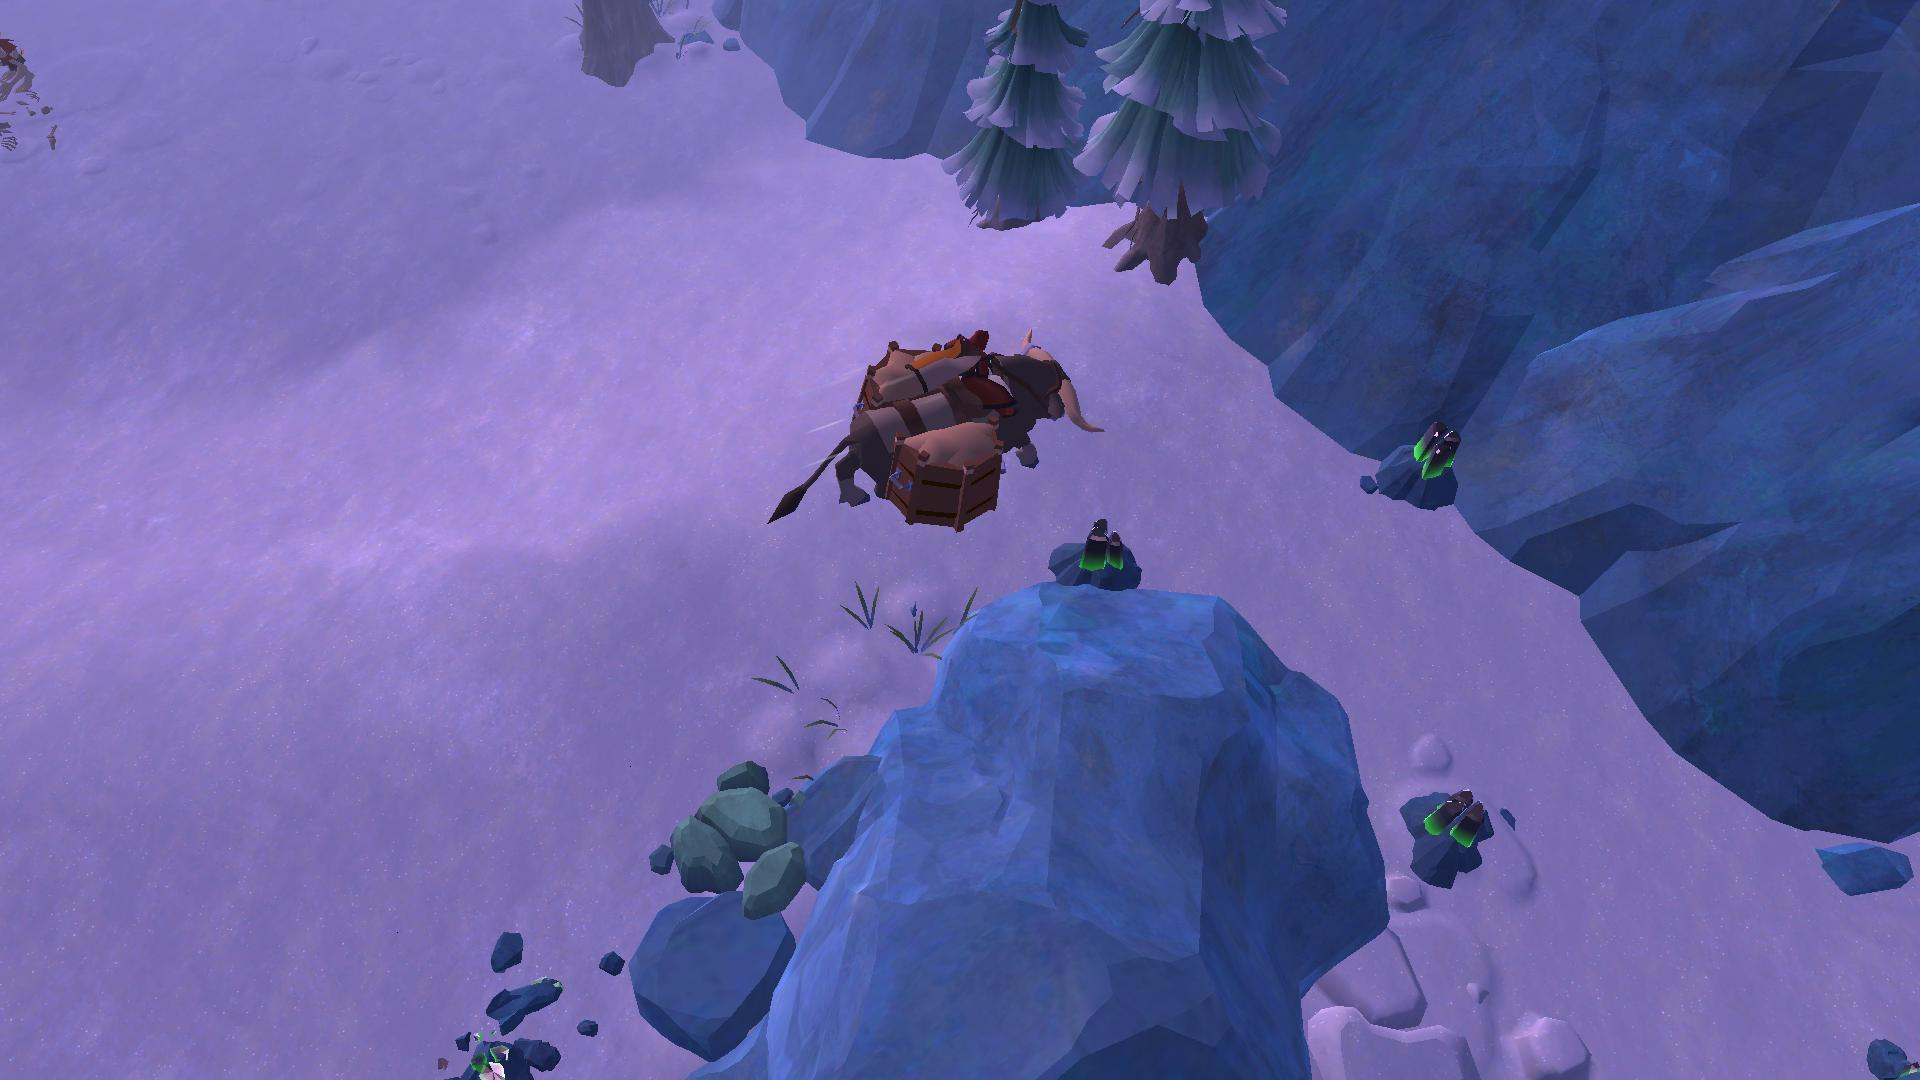enemy_factionUndead: (0, 29, 41, 109)
ore_t3: (1424, 778, 1491, 852), (1079, 510, 1131, 582), (1406, 419, 1460, 483)
rock_t3: (653, 770, 807, 922)
